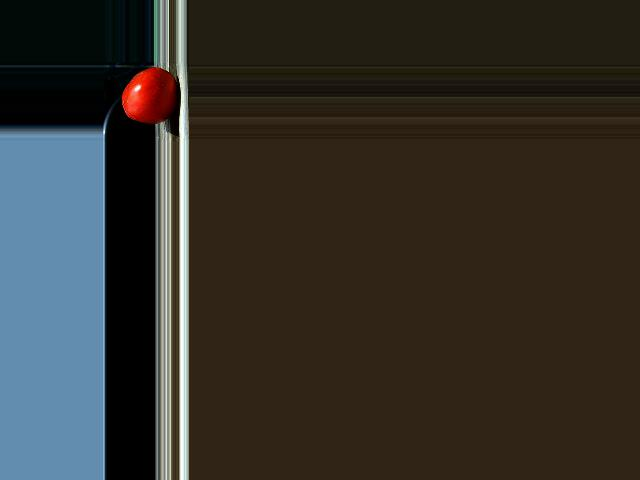tomato: (121, 67, 177, 124)
